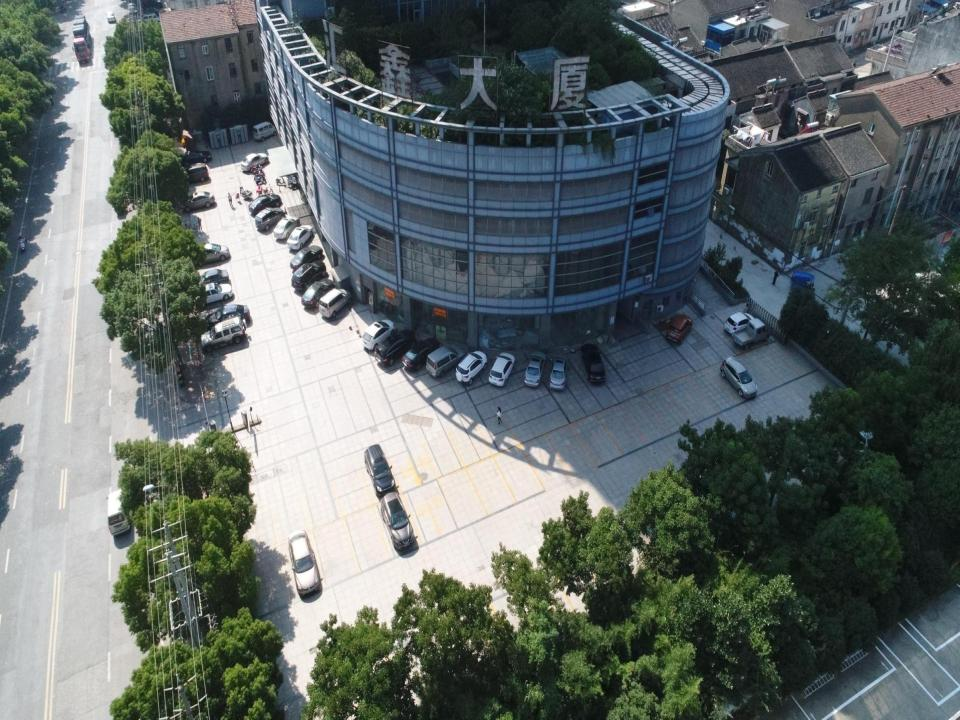car: (286, 530, 324, 597), (378, 492, 416, 552), (198, 312, 247, 354), (720, 354, 758, 401), (361, 445, 396, 496), (373, 328, 415, 367), (401, 337, 441, 371), (454, 347, 488, 386), (579, 341, 607, 386), (300, 276, 336, 308), (291, 259, 326, 291), (362, 320, 396, 352), (205, 302, 250, 326), (488, 351, 516, 388), (272, 211, 302, 243), (191, 281, 232, 303), (665, 313, 693, 345), (289, 243, 322, 270), (190, 241, 230, 263), (524, 348, 547, 386), (722, 310, 756, 334), (179, 161, 210, 185), (254, 207, 286, 230), (286, 223, 312, 251), (193, 266, 230, 285), (548, 354, 568, 389), (248, 194, 281, 214), (185, 189, 216, 208), (240, 154, 272, 172), (183, 150, 211, 164), (105, 10, 116, 23), (128, 6, 139, 14), (184, 222, 187, 234)
truck: (731, 317, 768, 351), (72, 13, 91, 64)
van: (424, 343, 464, 376), (107, 488, 130, 536), (318, 282, 348, 318), (253, 121, 277, 141), (143, 13, 160, 25)
